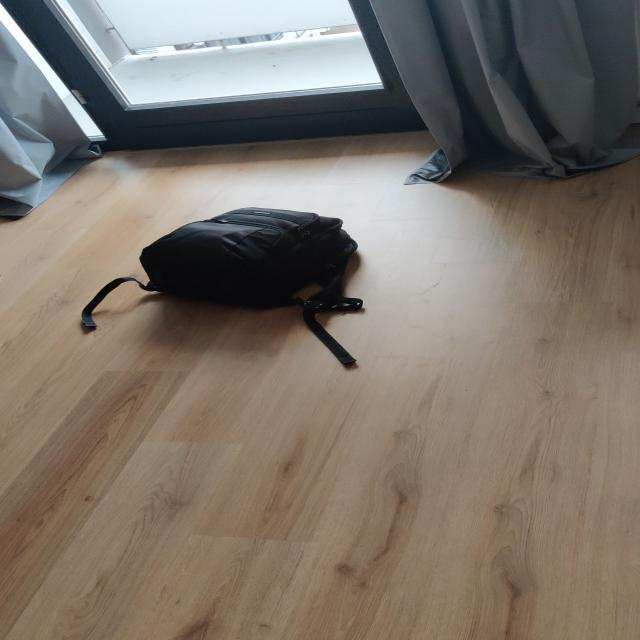backpack: (134, 202, 368, 314)
